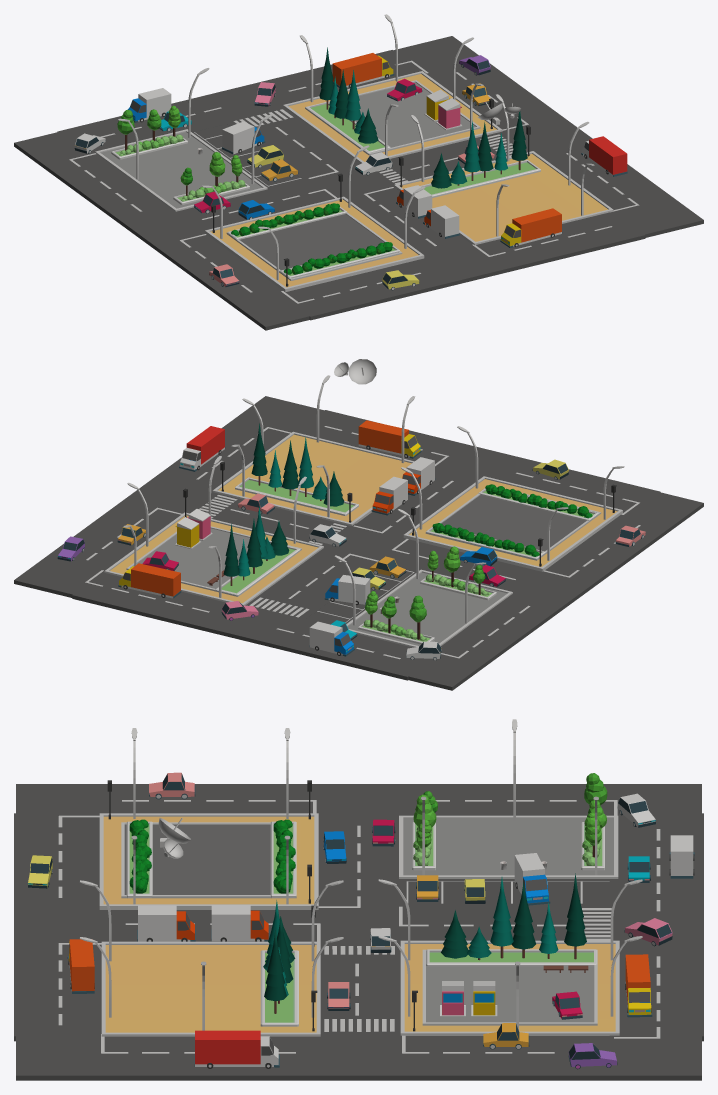
File: Modelall.gltf
The picture shows the model from 3 angles, top to bottom: view 1: azimuth 30°, elevation 25°; view 2: azimuth 150°, elevation 25°; view 3: azimuth 270°, elevation 25°; orthographic projection. The views are drawn at different scales.
Parts seen in each view (by area): view 1: ROAD, Floor (×4), Floor.4 (×3), ROAD.Lines.12, Cube.7 (×2), Bushes.3 (×2), Car_08.3, Car_08.5, Car_08.4, Bed (×2), Car_08.1, Firtree.2 (×2) (+9 smaller); view 2: ROAD, Floor (×4), Floor.4 (×3), ROAD.Lines.12, Cube.7 (×2), Bushes.3 (×2), Car_08.3, Car_08.5, Car_08.4, Car_08.1, Bed (×2), CAR_03.1 (×2) (+6 smaller); view 3: ROAD, Floor (×4), Floor.4 (×3), ROAD.Lines.12, Cube.7 (×2), Car_08.4, Bushes.3 (×2), Car_08, Car_08.6, Bed (×2), Firtree.4 (×2), CAR_03.2 (×2) (+18 smaller).
Boxes of the visible parts, x1=… form: ROAD: x1=14, y1=36, x2=703, y2=330; Floor (×4): x1=192, y1=71, x2=613, y2=292; Floor.4 (×3): x1=95, y1=80, x2=480, y2=280; ROAD.Lines.12: x1=69, y1=60, x2=639, y2=303; Cube.7 (×2): x1=305, y1=102, x2=540, y2=197; Bushes.3 (×2): x1=231, y1=203, x2=392, y2=274; Car_08.3: x1=500, y1=208, x2=562, y2=247; Car_08.5: x1=332, y1=53, x2=394, y2=87; Car_08.4: x1=581, y1=136, x2=627, y2=176; Bed (×2): x1=227, y1=206, x2=399, y2=278; Car_08.1: x1=127, y1=88, x2=171, y2=122; Firtree.2 (×2): x1=345, y1=70, x2=480, y2=180; ROAD: x1=14, y1=396, x2=703, y2=690; Floor (×4): x1=104, y1=431, x2=622, y2=624; Floor.4 (×3): x1=126, y1=487, x2=601, y2=647; ROAD.Lines.12: x1=85, y1=426, x2=640, y2=659; Cube.7 (×2): x1=215, y1=477, x2=358, y2=596; Bushes.3 (×2): x1=432, y1=484, x2=592, y2=556; Car_08.3: x1=358, y1=420, x2=421, y2=458; Car_08.5: x1=118, y1=563, x2=181, y2=598; Car_08.4: x1=179, y1=426, x2=225, y2=471; Car_08.1: x1=309, y1=621, x2=354, y2=656; Bed (×2): x1=426, y1=488, x2=598, y2=560; CAR_03.1 (×2): x1=221, y1=524, x2=346, y2=620; ROAD: x1=14, y1=784, x2=703, y2=1080; Floor (×4): x1=99, y1=813, x2=619, y2=1036; Floor.4 (×3): x1=121, y1=815, x2=618, y2=1025; ROAD.Lines.12: x1=58, y1=800, x2=660, y2=1053; Cube.7 (×2): x1=260, y1=949, x2=597, y2=1026; Car_08.4: x1=194, y1=1030, x2=279, y2=1068; Bushes.3 (×2): x1=129, y1=819, x2=295, y2=893; Car_08: x1=211, y1=905, x2=269, y2=941; Car_08.6: x1=137, y1=905, x2=195, y2=941; Bed (×2): x1=126, y1=821, x2=296, y2=898; Firtree.4 (×2): x1=264, y1=873, x2=586, y2=1013; CAR_03.2 (×2): x1=28, y1=793, x2=655, y2=888.
Size of the model in its own units: 2192 by 562 by 2192.
Materials: 1 (1 with a texture image).
